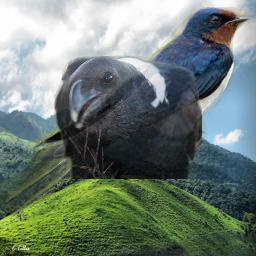Crow: (54, 55, 202, 179)
Swallow: (0, 7, 252, 217)
